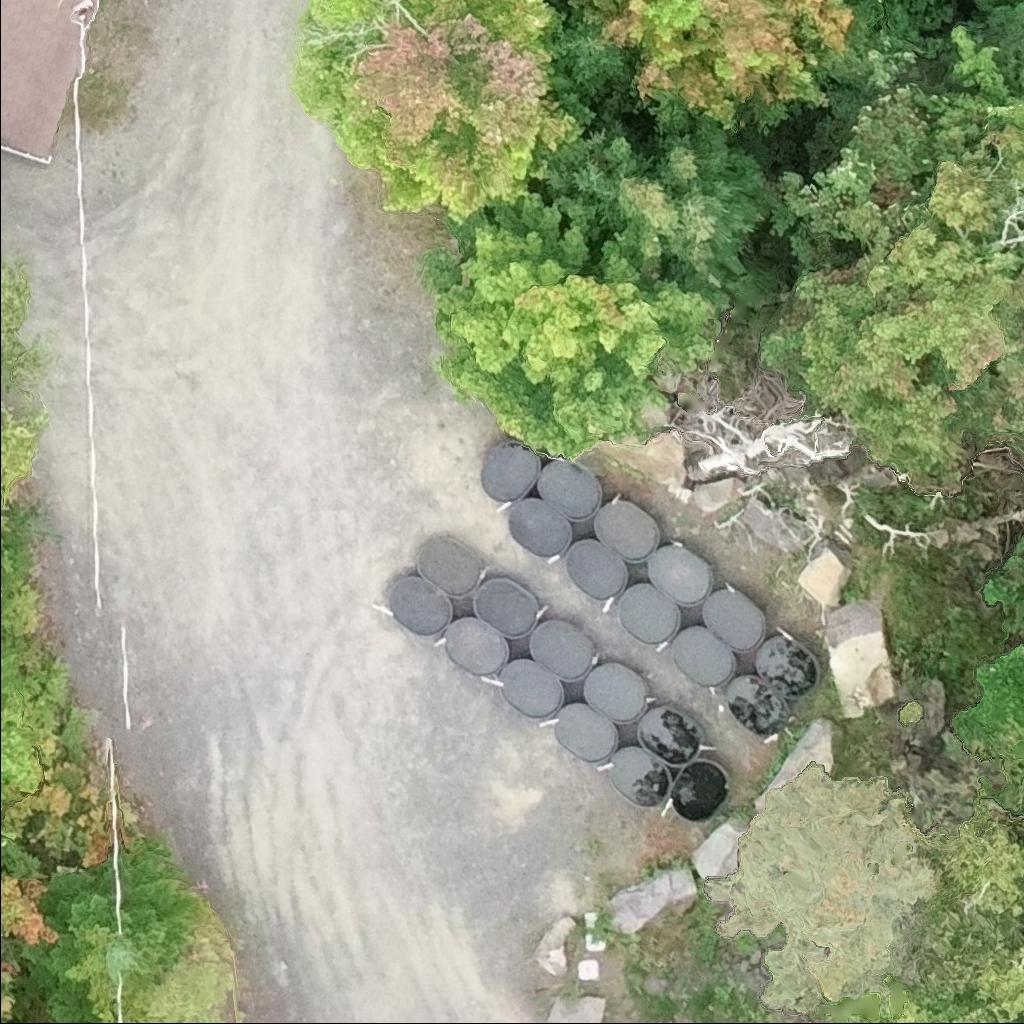crown: (438, 195, 714, 455), (293, 0, 572, 220), (578, 0, 852, 126), (24, 846, 206, 1023), (924, 807, 1023, 1023), (677, 379, 845, 503), (0, 690, 41, 844), (0, 253, 38, 390), (0, 405, 50, 509), (0, 875, 60, 949), (849, 998, 995, 1023), (0, 970, 19, 1021)
